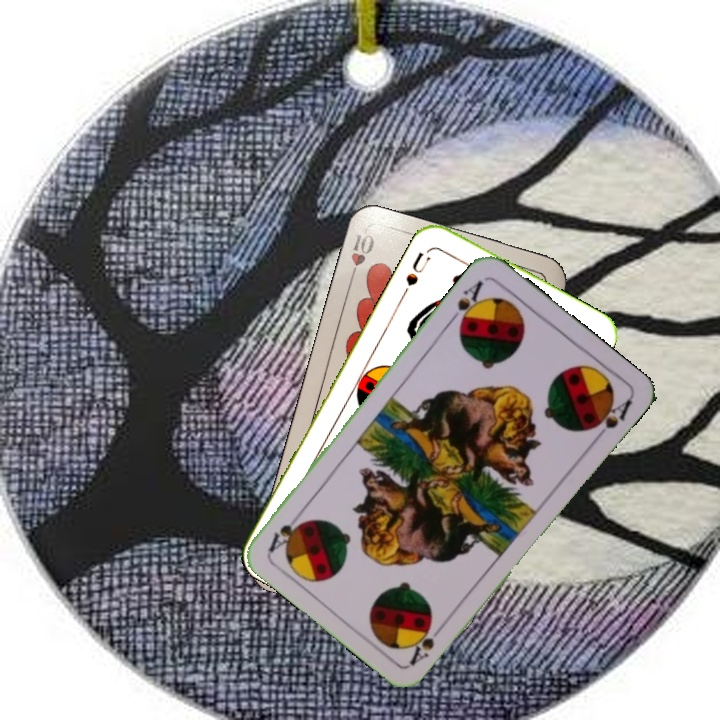H10: (345, 229, 377, 285)
SA: (445, 277, 487, 331), (405, 617, 449, 668)
SU: (398, 244, 434, 299)
